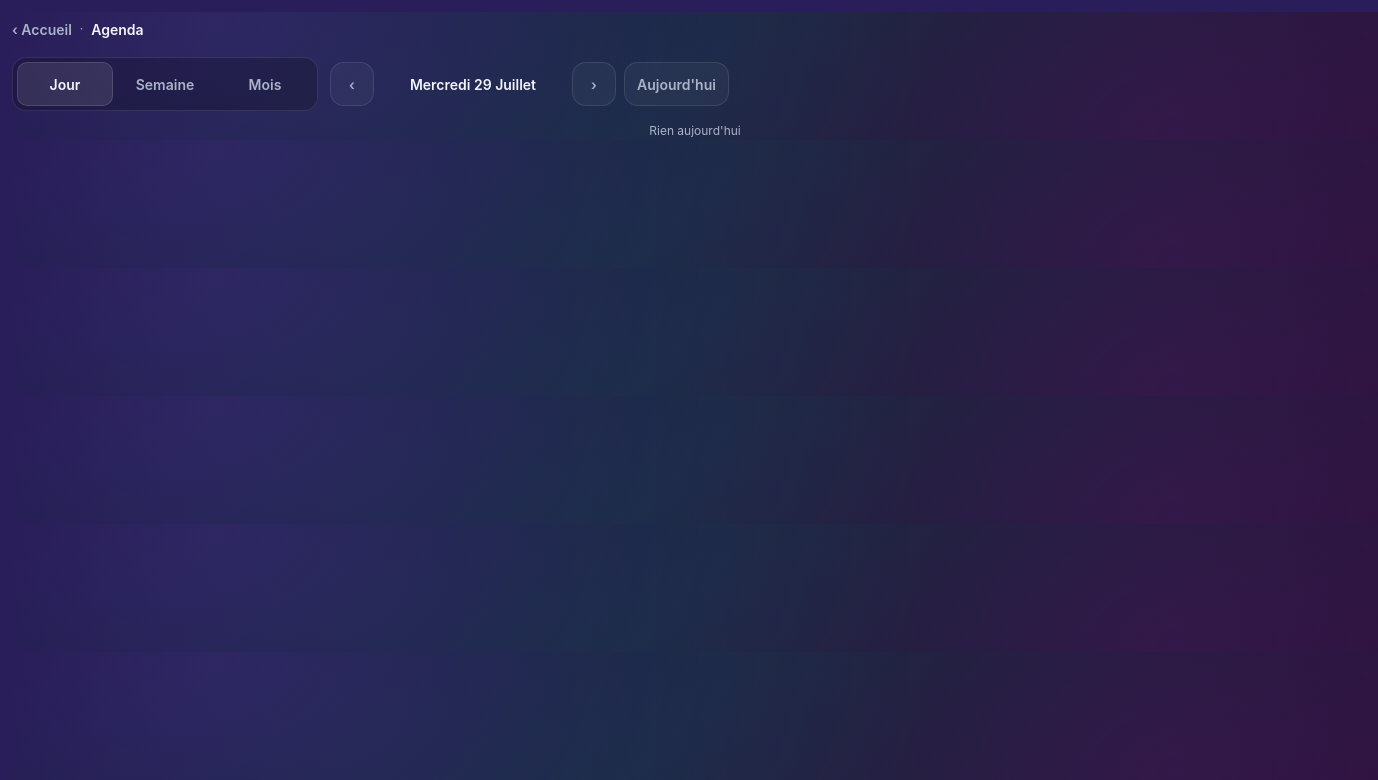
it: AgendaDetail (Story 10.2) › navigue par mois entier, et le rappel suit
Click the tab "Mois".
click(265, 84)  # box [217, 62, 313, 106]
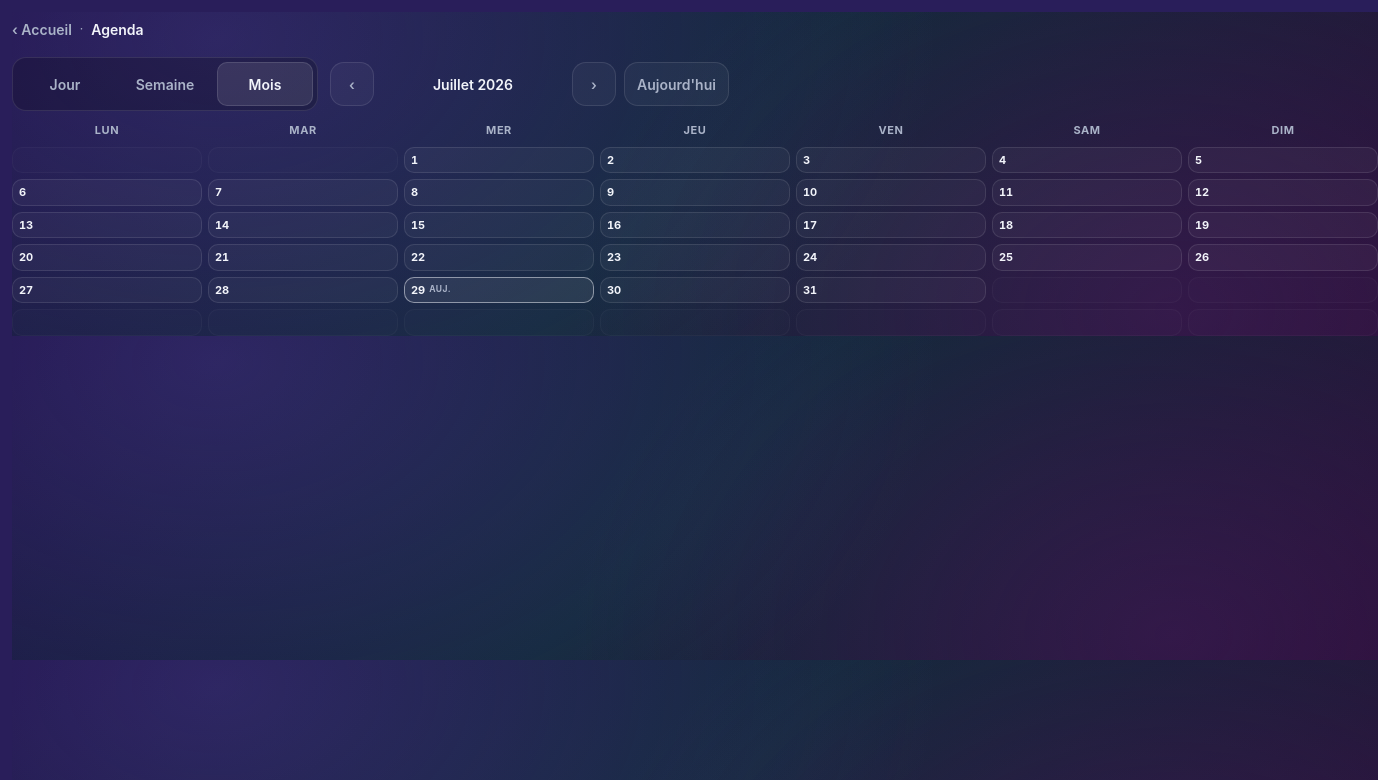
Click the button named "période suivante".
click(594, 84)  # box [572, 62, 616, 106]
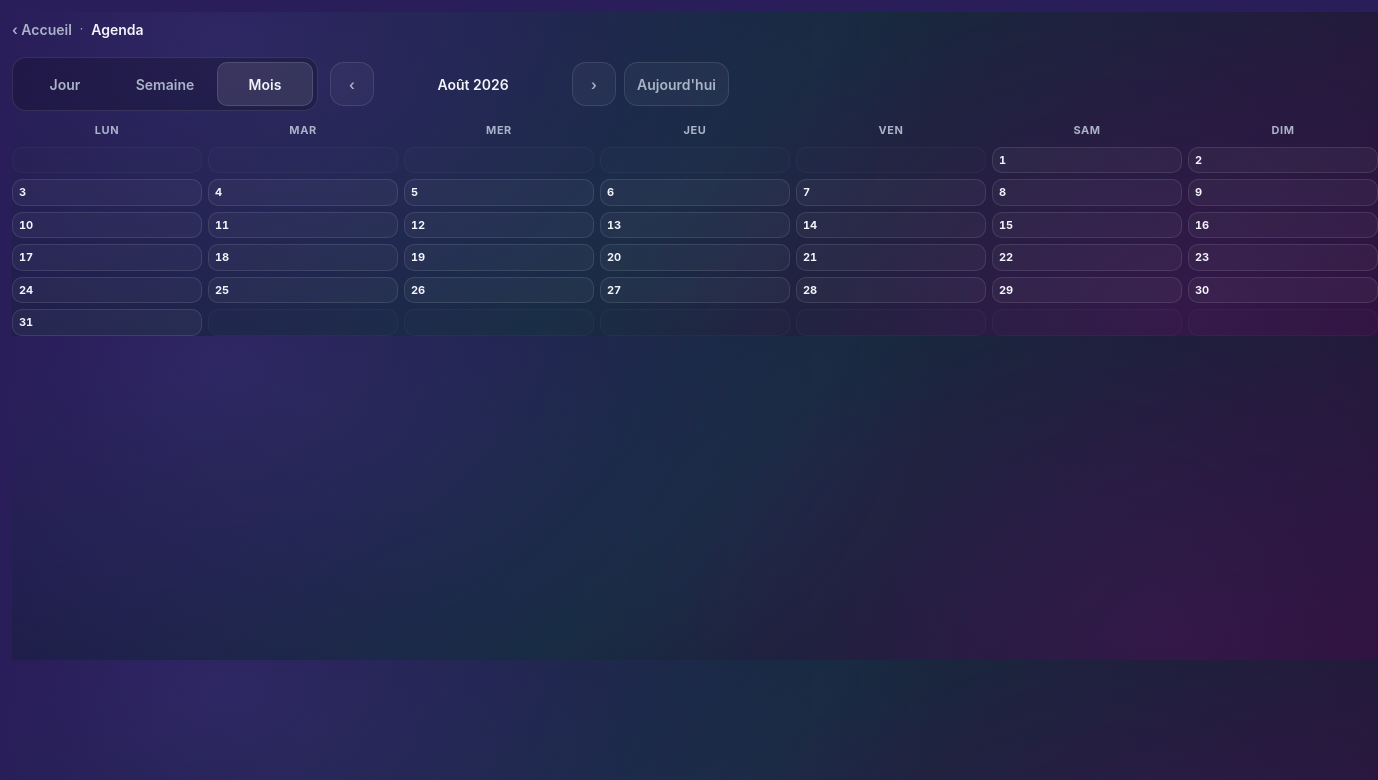
Now the text "août 2026" is shown, box [437, 76, 509, 92]
